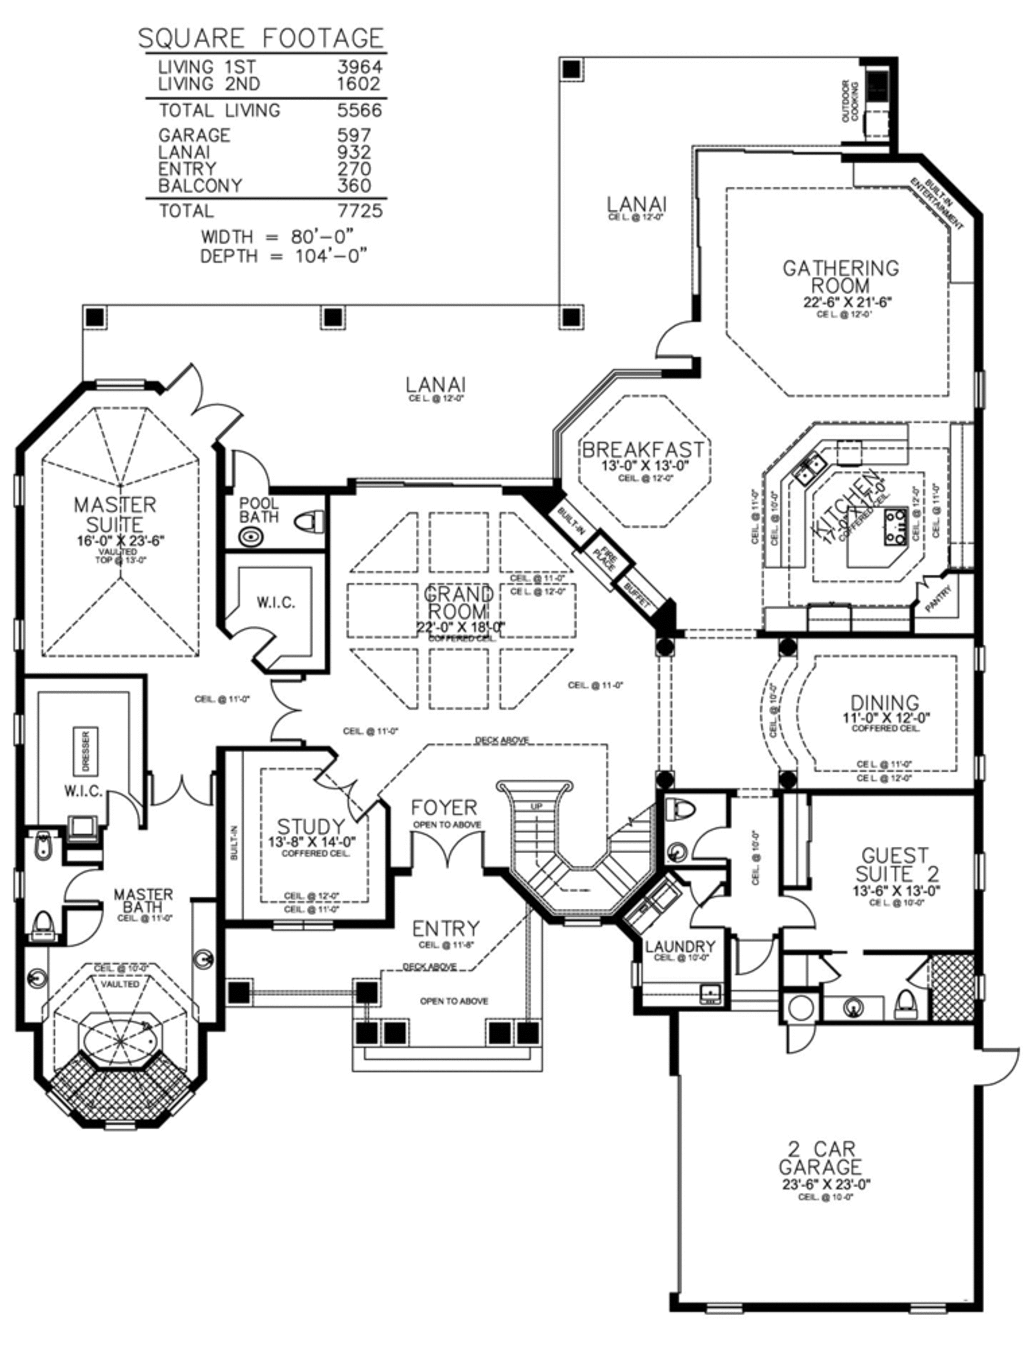door: (169, 357, 245, 439), (305, 755, 375, 819), (399, 830, 489, 873), (226, 445, 275, 497), (143, 772, 215, 807), (268, 676, 303, 745), (652, 317, 699, 359), (96, 785, 136, 835), (689, 825, 730, 867), (233, 623, 275, 663), (729, 939, 770, 976), (783, 889, 813, 937)
large_sink: (286, 504, 328, 542), (26, 906, 55, 935), (892, 993, 923, 1019)
small_sink: (193, 917, 216, 992)
stairs: (493, 772, 648, 914)
